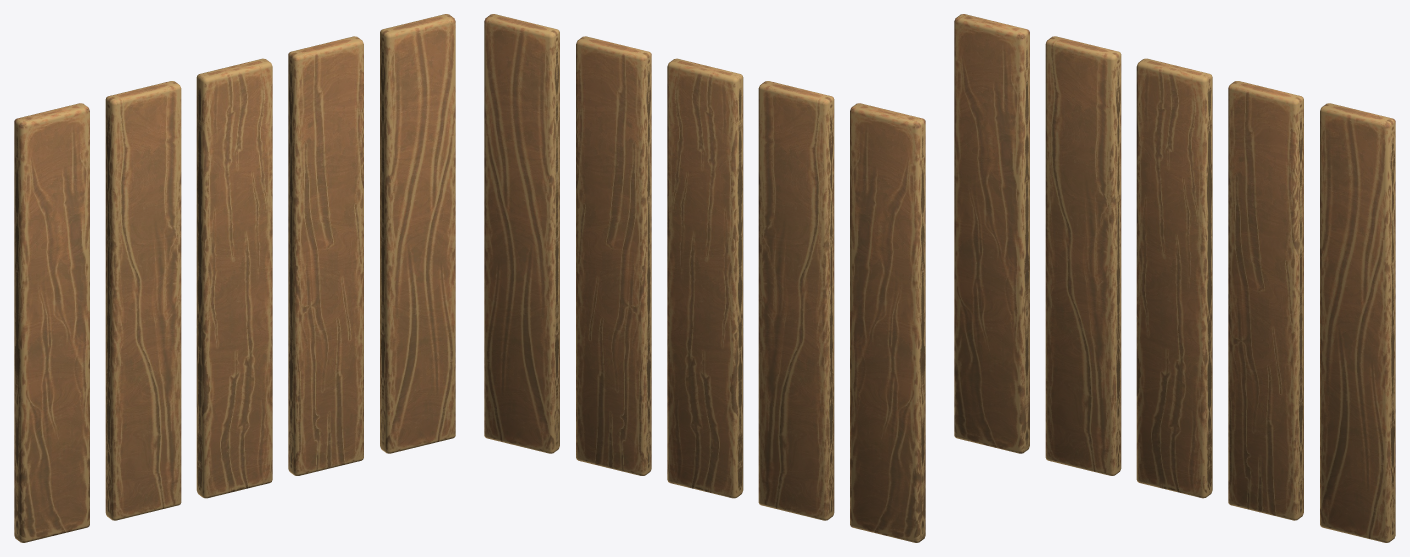
The model's file is Planks.fbx.
3 views of the same model, side by side, from view 1: azimuth 30°, elevation 25°; view 2: azimuth 150°, elevation 25°; view 3: azimuth 330°, elevation 25° (orthographic).
Visible parts, largest first — view 1: Stylized Wood Planks, Stylized Wood Planks.003, Stylized Wood Planks.001, Stylized Wood Planks.004, Stylized Wood Planks.002; view 2: Stylized Wood Planks, Stylized Wood Planks.003, Stylized Wood Planks.001, Stylized Wood Planks.004, Stylized Wood Planks.002; view 3: Stylized Wood Planks, Stylized Wood Planks.003, Stylized Wood Planks.001, Stylized Wood Planks.004, Stylized Wood Planks.002.
Boxes of the visible parts, x1,y1,x2,y2 form: Stylized Wood Planks: (196,58,272,498); Stylized Wood Planks.003: (105,81,181,520); Stylized Wood Planks.001: (380,14,455,453); Stylized Wood Planks.004: (14,103,89,542); Stylized Wood Planks.002: (288,36,363,475); Stylized Wood Planks: (667,58,743,498); Stylized Wood Planks.003: (758,81,834,520); Stylized Wood Planks.001: (484,14,559,453); Stylized Wood Planks.004: (850,103,925,542); Stylized Wood Planks.002: (576,36,651,475); Stylized Wood Planks: (1136,58,1212,498); Stylized Wood Planks.003: (1045,36,1121,475); Stylized Wood Planks.001: (1320,103,1395,542); Stylized Wood Planks.004: (954,14,1029,453); Stylized Wood Planks.002: (1228,81,1303,520).
Size of the model in its own units: 206 by 7.48 by 190.
1 material, 1 textured.
